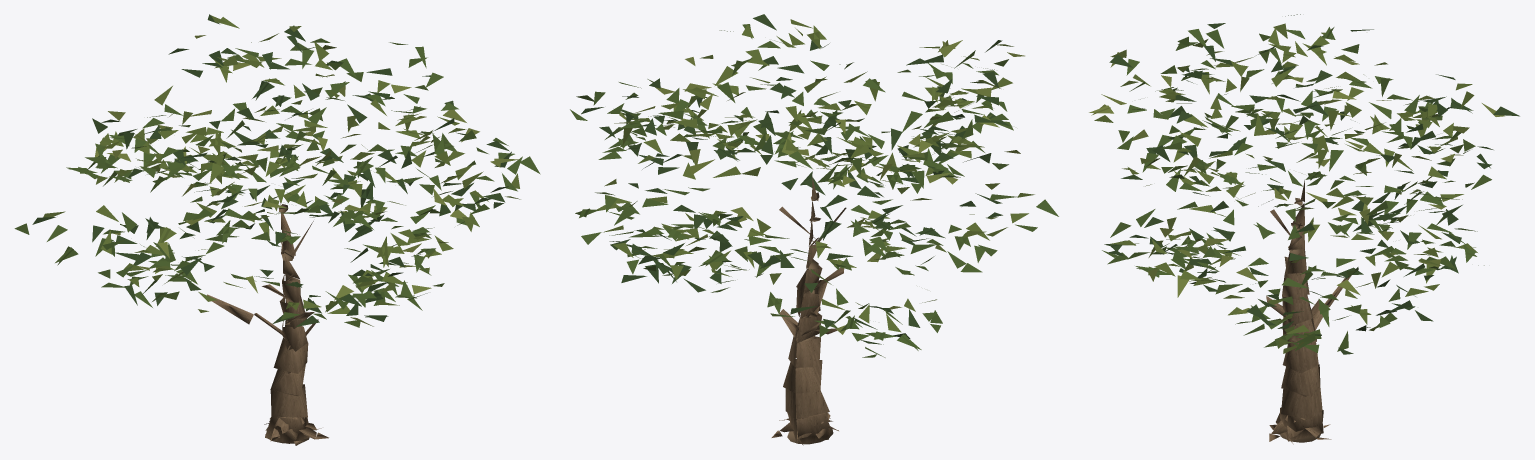
The model's file is broadleaf-tree.glb.
3 renders of one model, left to right at view 1: azimuth 30°, elevation 25°; view 2: azimuth 150°, elevation 25°; view 3: azimuth 270°, elevation 25°, orthographic. The views are drawn at different scales.
Parts seen in each view (by area): view 1: 树冠 · 立体阔叶, 树干与枝系 · 灰褐树皮; view 2: 树冠 · 立体阔叶, 树干与枝系 · 灰褐树皮; view 3: 树冠 · 立体阔叶, 树干与枝系 · 灰褐树皮.
Boxes of the visible parts, x1,y1,x2,y2 form: 树冠 · 立体阔叶: (14,14,540,327); 树干与枝系 · 灰褐树皮: (207,202,328,445); 树冠 · 立体阔叶: (570,14,1058,357); 树干与枝系 · 灰褐树皮: (771,177,846,445); 树冠 · 立体阔叶: (1089,14,1519,354); 树干与枝系 · 灰褐树皮: (1266,180,1351,444).
Size of the model in its own units: 9.58 by 7.94 by 8.77.
Materials: 5 (1 with a texture image).
